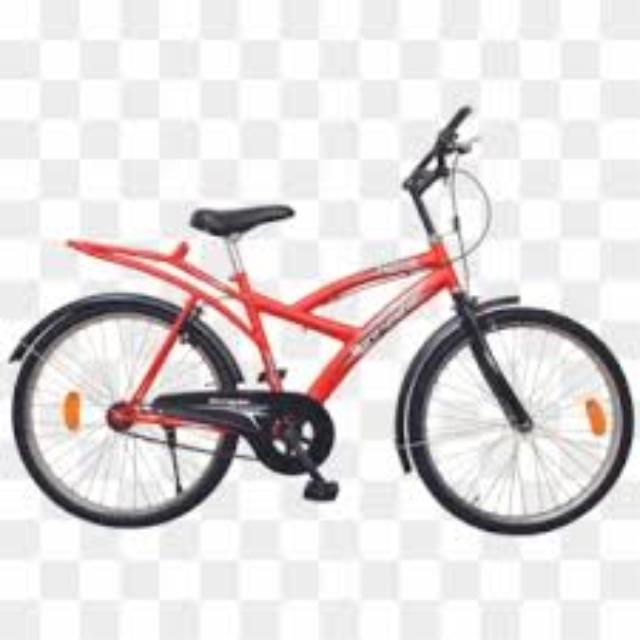obstacle: (5, 57, 637, 579)
